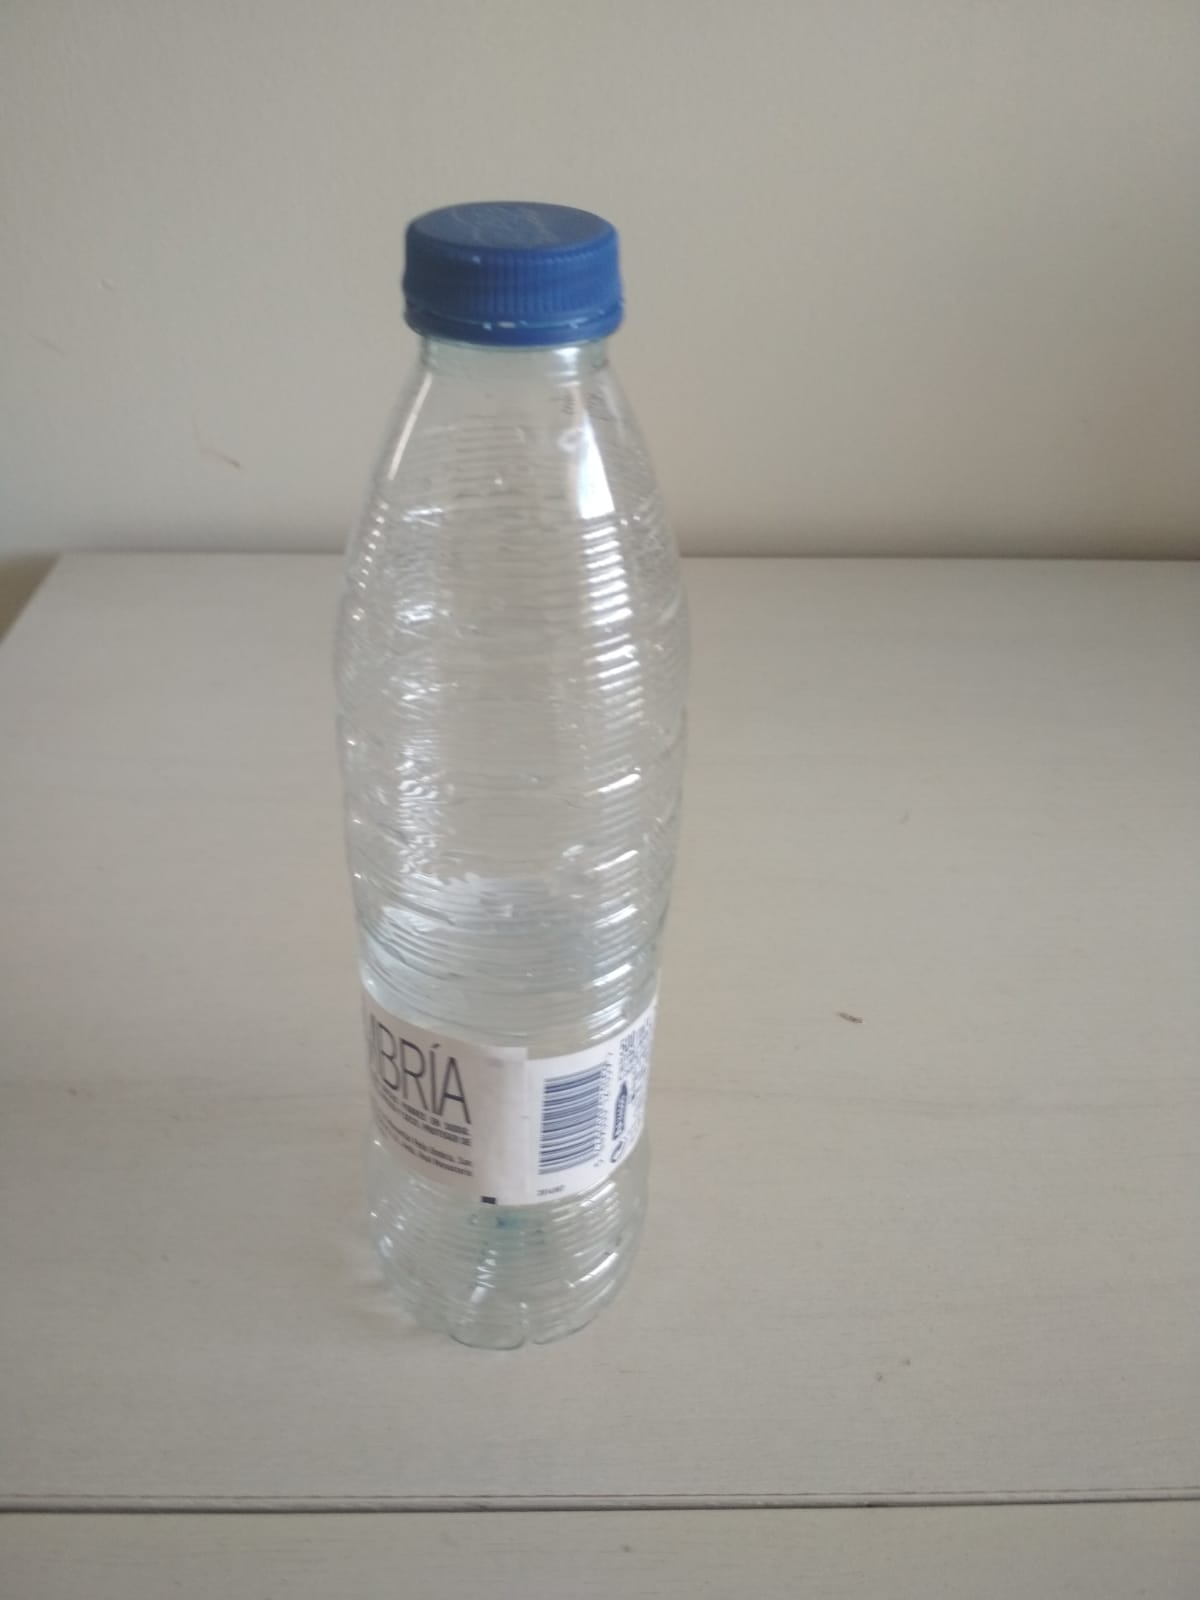botella plastico: (337, 199, 695, 1347)
